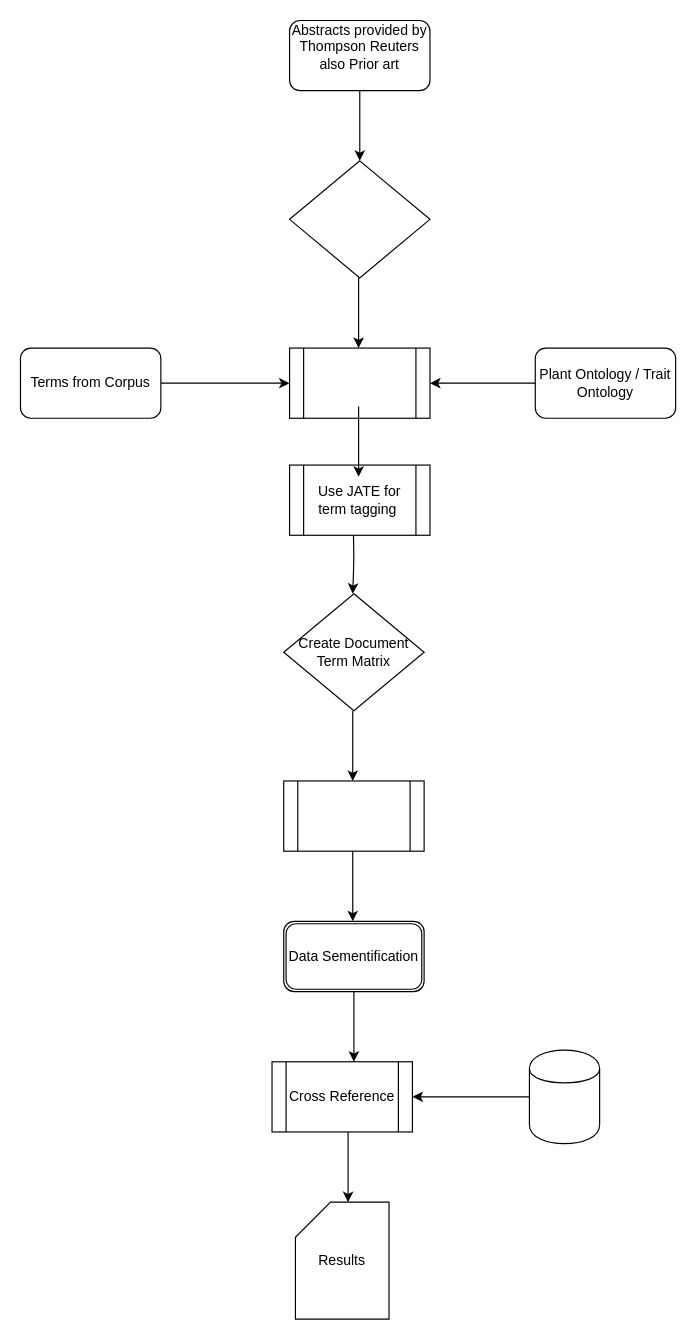
Image size: 696x1340. Some labels were removed from this diagram. Here are the shapes that lost their labels. From the top down, the centre of each, then its label:
At point (359, 219): "Prepare Corpus of Data".
At point (359, 382): "Create Dictionary in Solr".
At point (353, 815): "Identify Term Correlation".
At point (564, 1096): "Valldation dataset from Partners".
